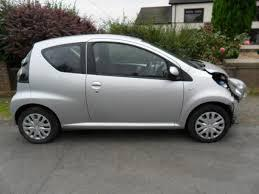bonnet-dent: (203, 58, 251, 87)
